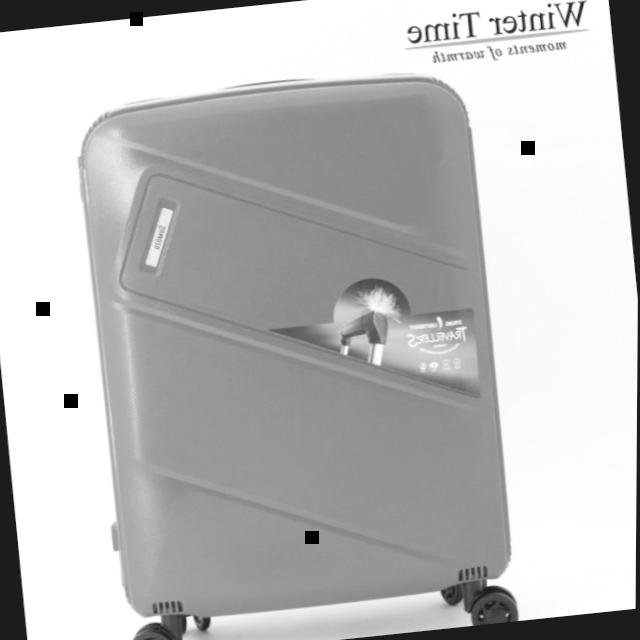luggage: (59, 51, 526, 636)
